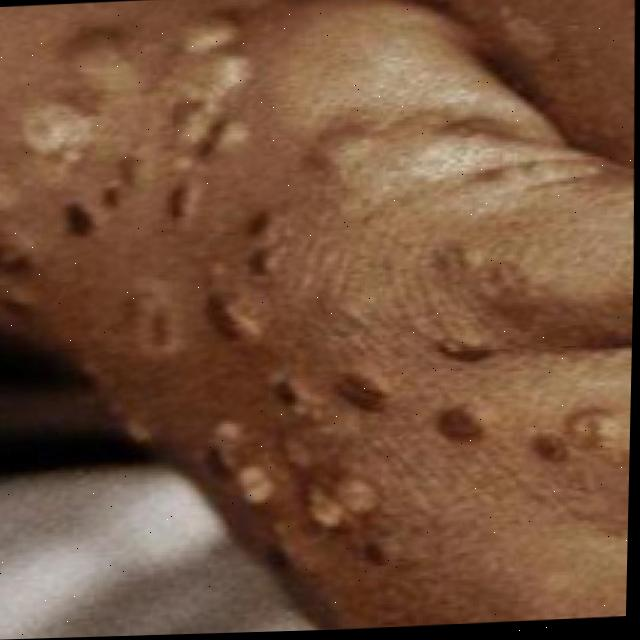Eczema: (20, 31, 546, 584)
